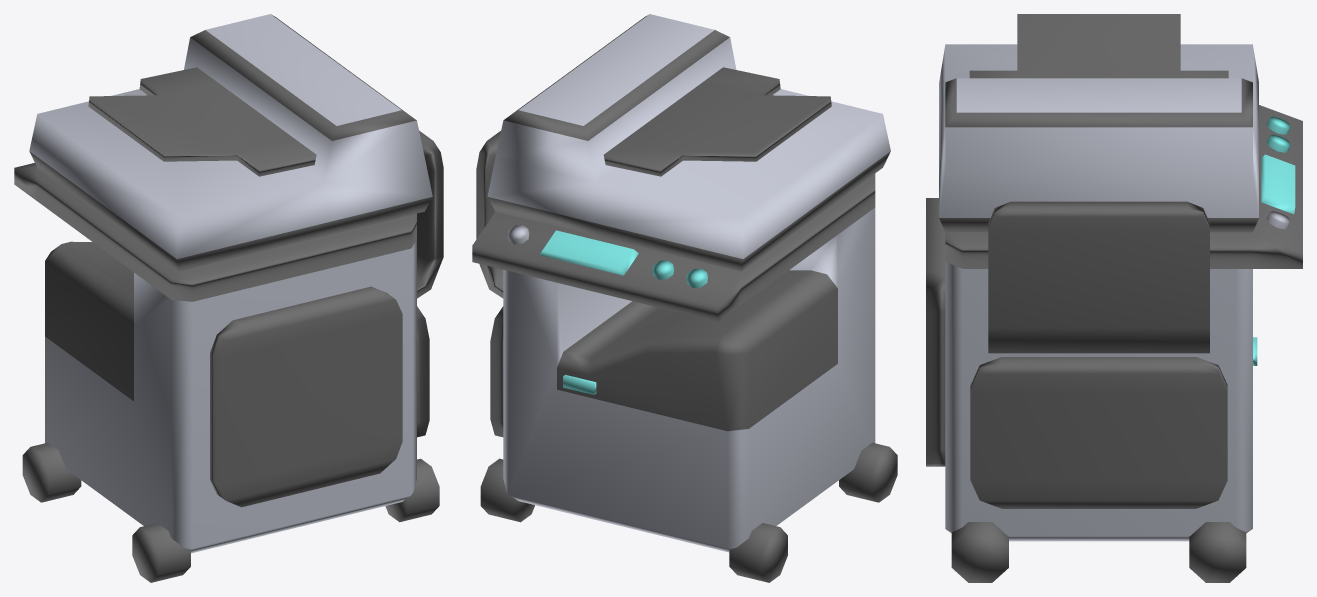
File: printer_01.glb
3 renders of one model, left to right at view 1: azimuth 30°, elevation 25°; view 2: azimuth 150°, elevation 25°; view 3: azimuth 270°, elevation 25°, orthographic. The views are drawn at different scales.
Visible parts, largest first — view 1: mesh_printer_01; view 2: mesh_printer_01; view 3: mesh_printer_01.
Boxes of the visible parts, x1,y1,x2,y2 form: mesh_printer_01: (14,14,443,582); mesh_printer_01: (472,14,897,582); mesh_printer_01: (926,14,1302,582).
Bounding box in the file's own units: 1.02 × 1.34 × 1.01.
